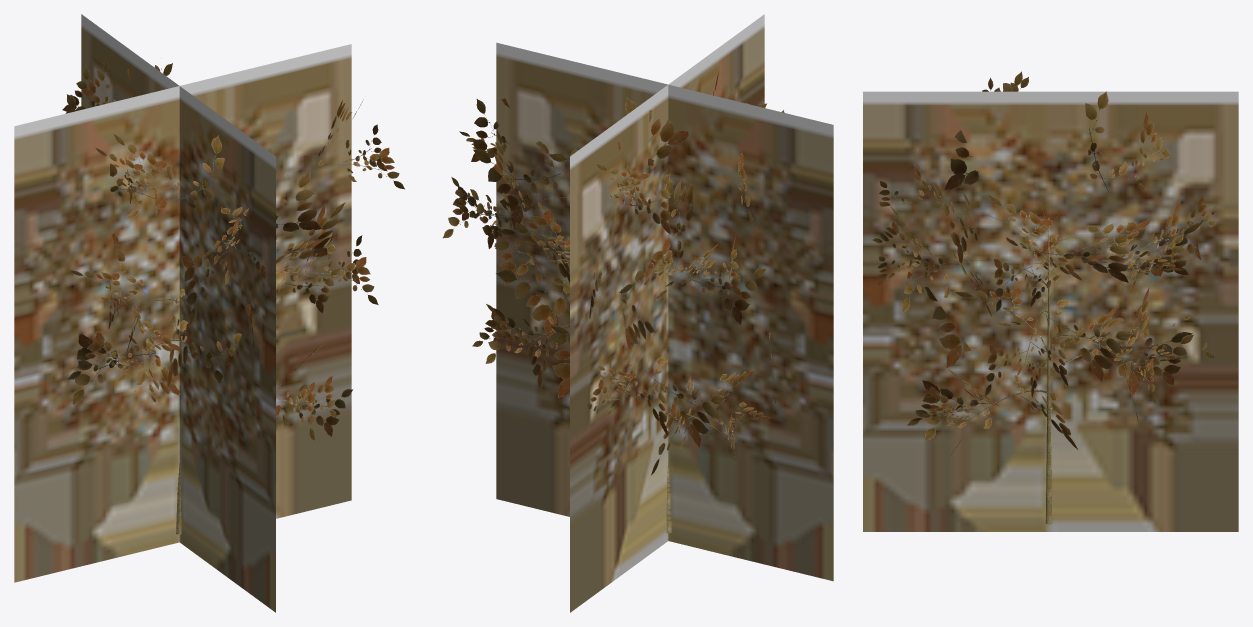
Rendered from Shrub1-1C.fbx.
The picture shows the model from 3 angles, left to right: view 1: azimuth 30°, elevation 25°; view 2: azimuth 150°, elevation 25°; view 3: azimuth 270°, elevation 25°; orthographic projection. The views are drawn at different scales.
Visible parts, largest first — view 1: Billboard-Shrub1-1C, Shrub1-1C_LOD0; view 2: Billboard-Shrub1-1C, Shrub1-1C_LOD0; view 3: Billboard-Shrub1-1C, Shrub1-1C_LOD0.
Part boxes in pixels (bbox=[...]): Billboard-Shrub1-1C: bbox=[14, 14, 351, 612]; Shrub1-1C_LOD0: bbox=[62, 59, 404, 534]; Billboard-Shrub1-1C: bbox=[496, 14, 833, 612]; Shrub1-1C_LOD0: bbox=[443, 69, 784, 533]; Billboard-Shrub1-1C: bbox=[863, 91, 1238, 531]; Shrub1-1C_LOD0: bbox=[872, 71, 1217, 524].
Size of what is drawn, in the model's own units: 282 by 336 by 252.
